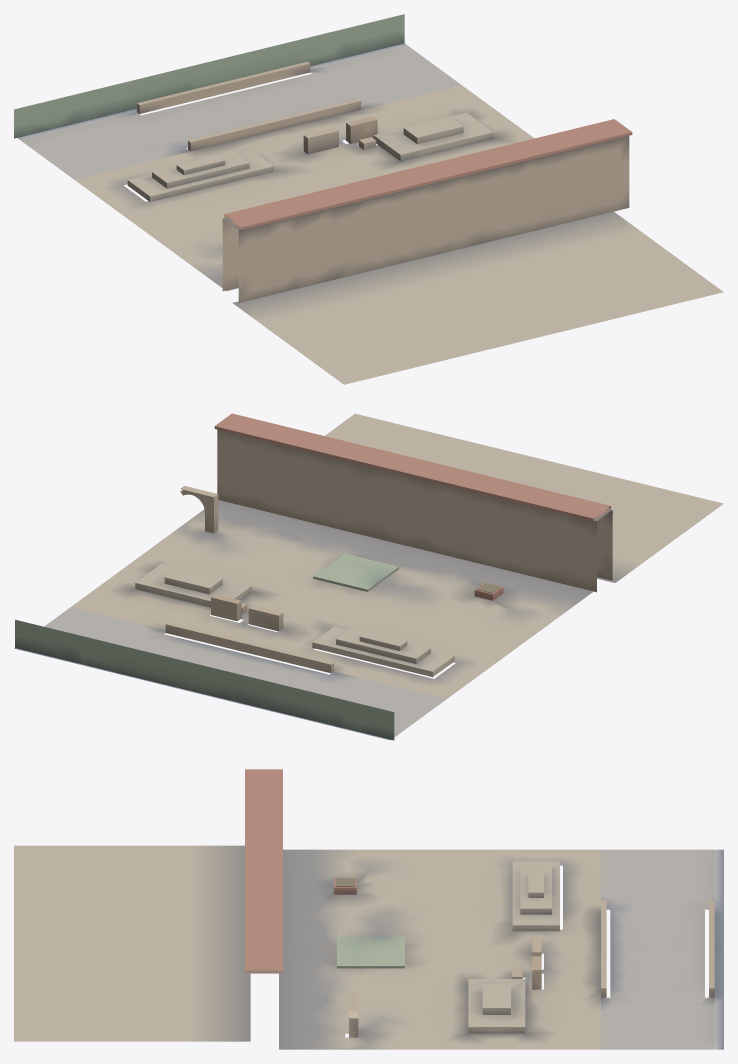
3 renders of one model, top to bottom at view 1: azimuth 30°, elevation 25°; view 2: azimuth 150°, elevation 25°; view 3: azimuth 270°, elevation 25°, orthographic. The views are drawn at different scales.
Visible parts, largest first — view 1: t; view 2: t; view 3: t.
Part boxes in pixels (x1,y1,x2,y2): t: [14, 14, 723, 384]; t: [14, 413, 723, 740]; t: [14, 769, 723, 1049].
Bounding box in the file's own units: 51.27 × 9.35 × 75.
